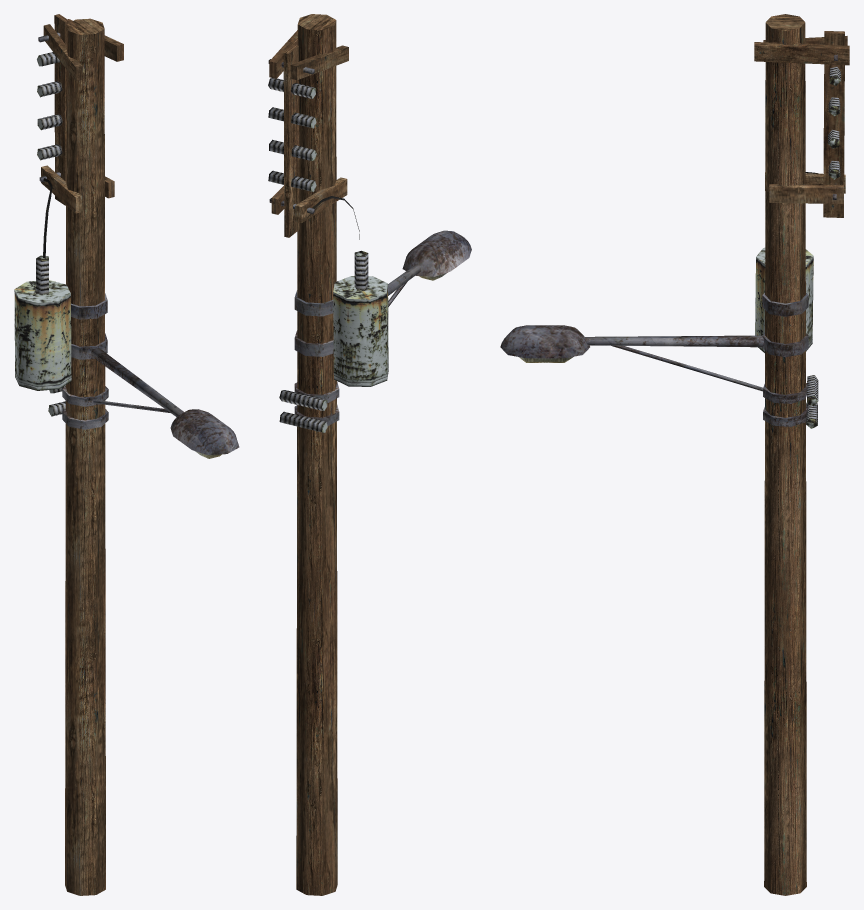
Rendered from powerlinepole3.FBX.
The picture shows the model from 3 angles, left to right: view 1: azimuth 30°, elevation 25°; view 2: azimuth 150°, elevation 25°; view 3: azimuth 270°, elevation 25°; orthographic projection.
Visible parts, largest first — view 1: powerlinepole3; view 2: powerlinepole3; view 3: powerlinepole3.
Boxes of the visible parts, box(x1,y1,x2,y2) form: powerlinepole3: box(14, 14, 239, 895); powerlinepole3: box(268, 14, 471, 895); powerlinepole3: box(500, 14, 849, 895).
Size of the model in its own units: 0.8285 by 7.49 by 2.74.
